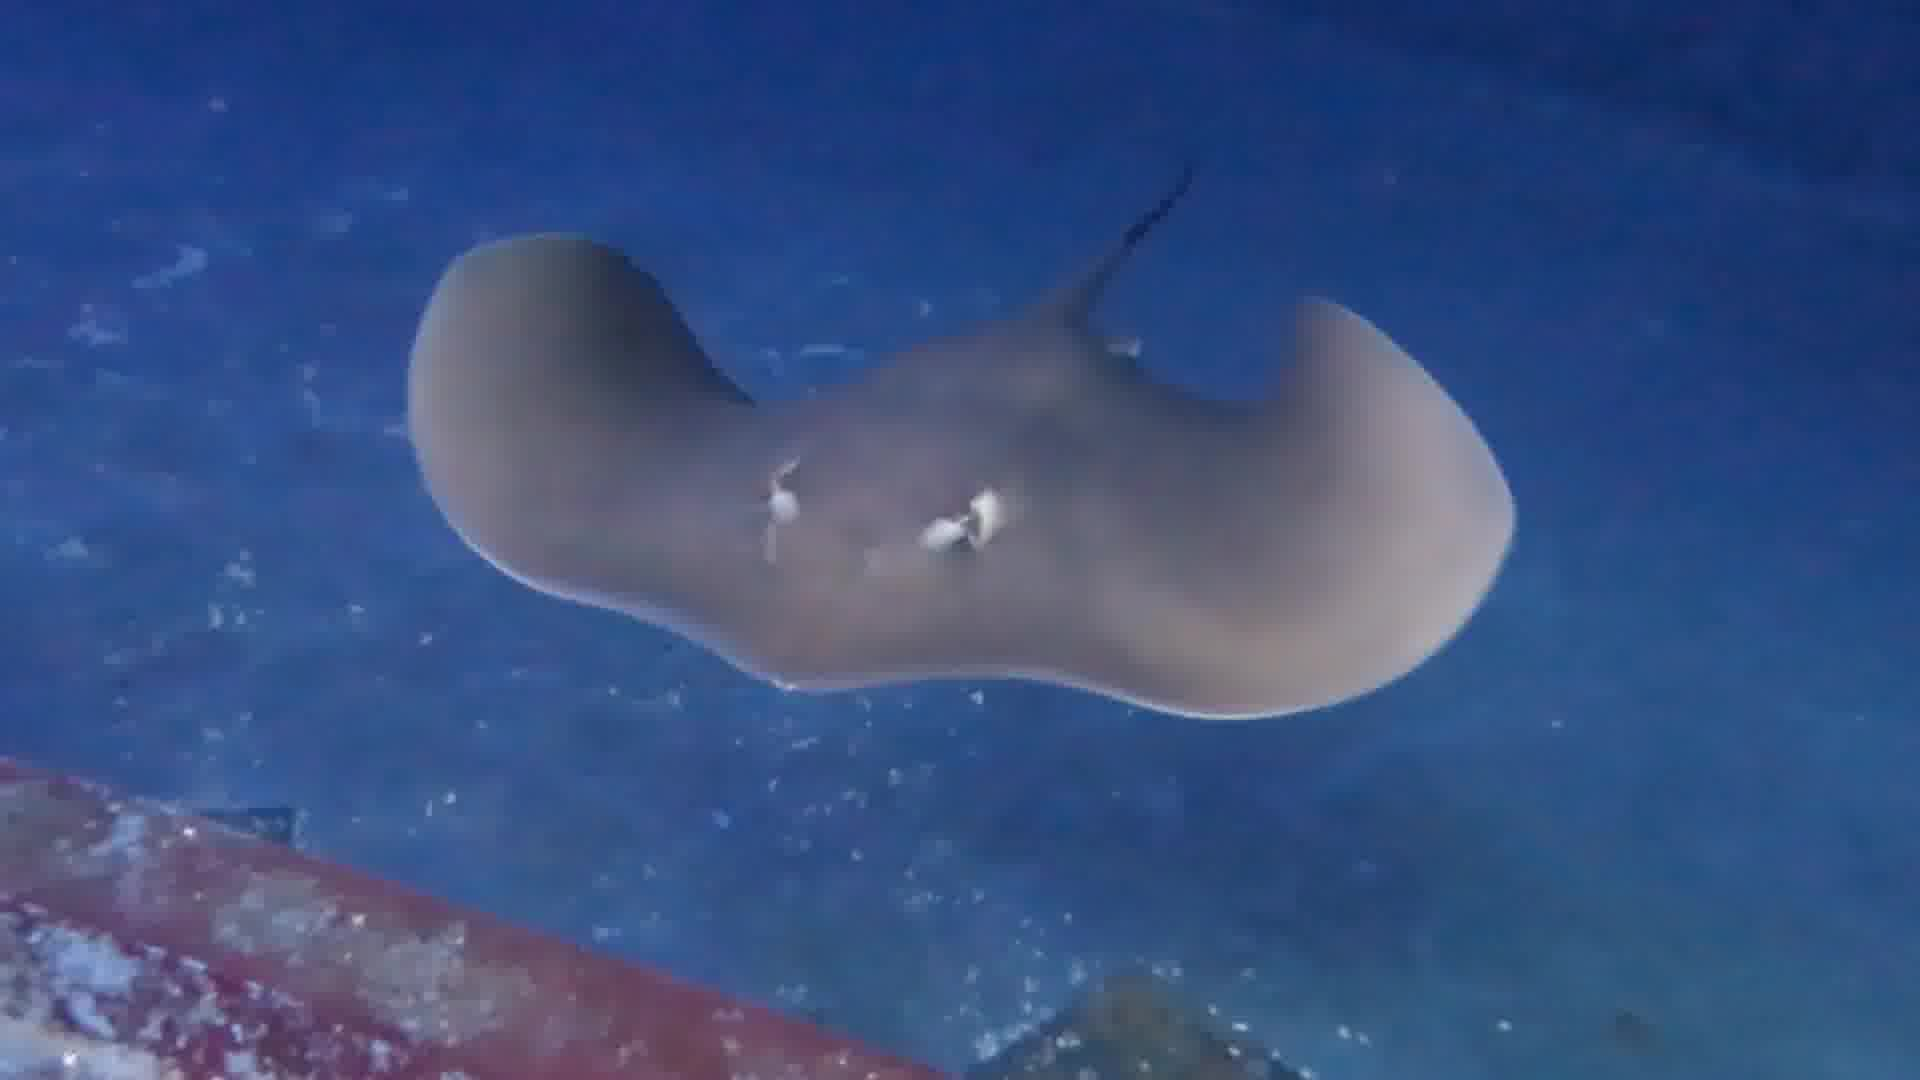Dasyatis akajei: (326, 98, 1627, 782)
